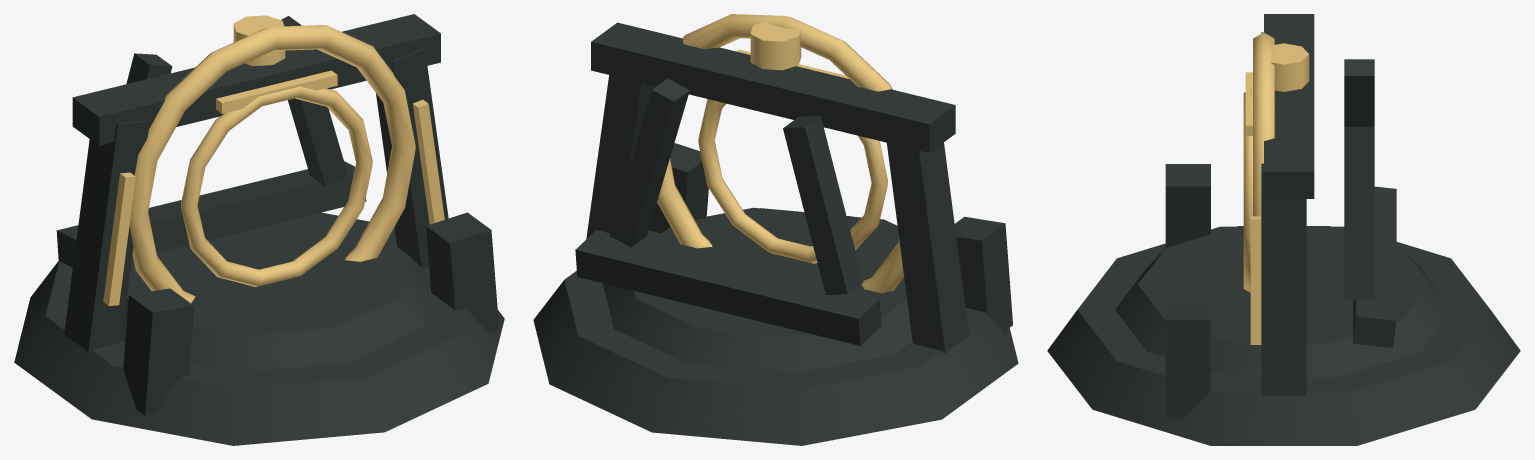
Rendered from landmark-archive-core.v1.glb.
The picture shows the model from 3 angles, left to right: view 1: azimuth 30°, elevation 25°; view 2: azimuth 150°, elevation 25°; view 3: azimuth 270°, elevation 25°; orthographic projection. The views are drawn at different scales.
Parts seen in each view (by area): view 1: ArchiveCoreFrame, ArchiveCoreAccent; view 2: ArchiveCoreFrame, ArchiveCoreAccent; view 3: ArchiveCoreFrame, ArchiveCoreAccent.
Boxes of the visible parts, box(x1,y1,x2,y2) form: ArchiveCoreFrame: box(14, 14, 504, 445); ArchiveCoreAccent: box(103, 15, 444, 305); ArchiveCoreFrame: box(533, 22, 1018, 445); ArchiveCoreAccent: box(656, 14, 904, 293); ArchiveCoreFrame: box(1047, 14, 1520, 445); ArchiveCoreAccent: box(1243, 32, 1309, 344).
Size of the model in its own units: 1.79 by 1.33 by 1.88.
